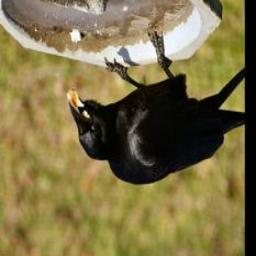Crow: (66, 29, 244, 188)
